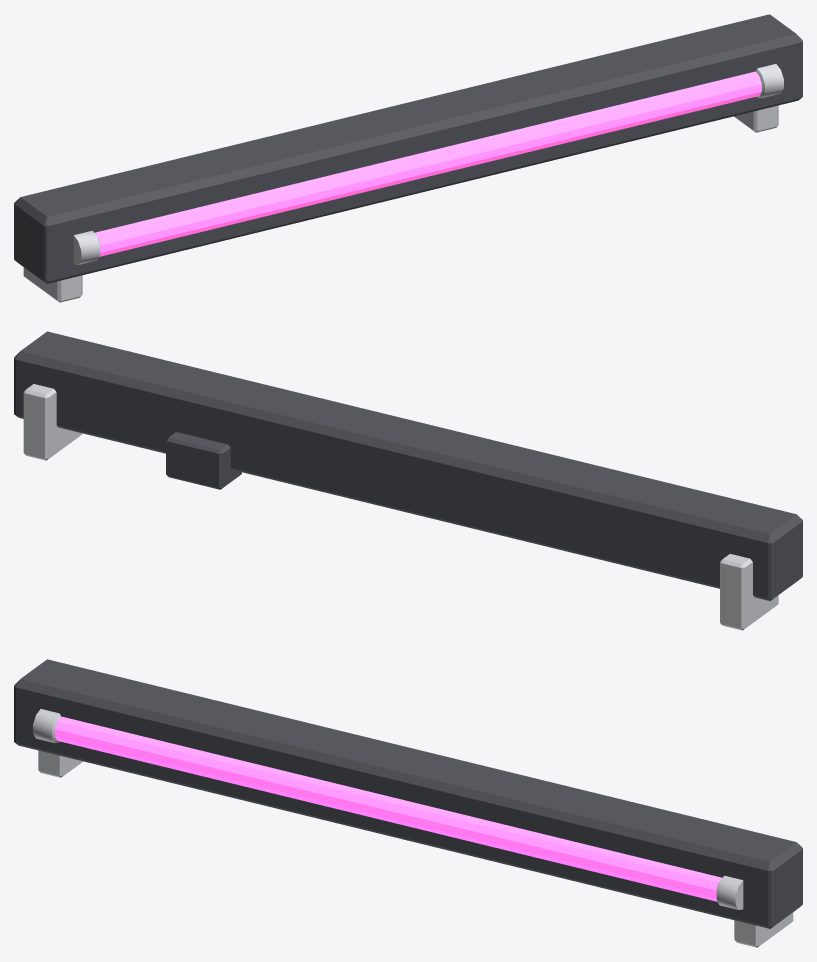
3 views of the same model, one above another, from view 1: azimuth 30°, elevation 25°; view 2: azimuth 150°, elevation 25°; view 3: azimuth 330°, elevation 25° (orthographic).
Visible parts, largest first — view 1: neon-strip-run; view 2: neon-strip-run; view 3: neon-strip-run.
Part boxes in pixels (x1=…): neon-strip-run: x1=14, y1=14, x2=802, y2=302; neon-strip-run: x1=14, y1=331, x2=802, y2=630; neon-strip-run: x1=14, y1=659, x2=802, y2=947.
Size of the model in its own units: 1.2 by 0.14 by 0.1359.
